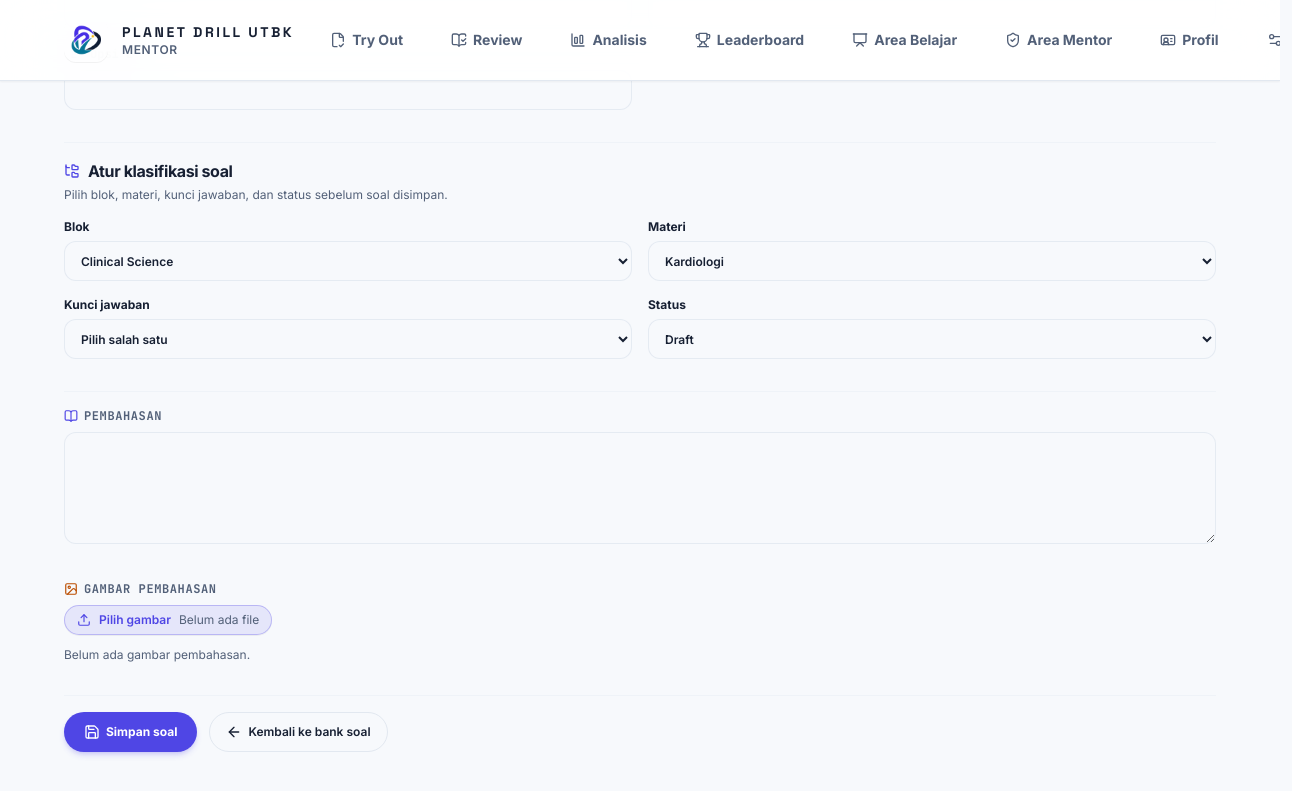
Test: Question editor page › validates the required manual fields before saving
(page scrolled)
Expected: the dropdown labelled "Blok" is shown, [64, 241, 632, 281]
Click the button "Simpan soal": (131, 732) [64, 712, 197, 752]
(page scrolled)
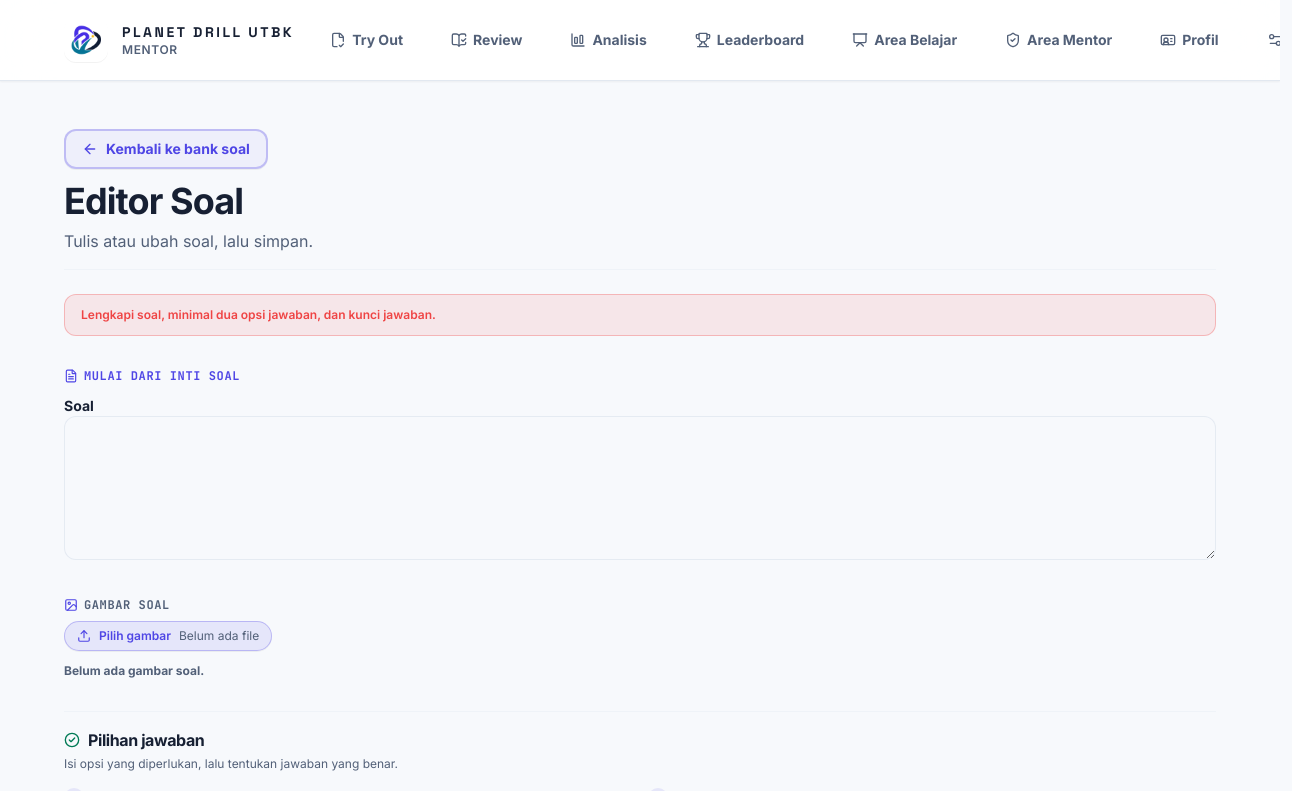
Now the text "Lengkapi soal, minimal dua opsi jawaban, dan kunci jawaban." is shown, box [64, 294, 1216, 336]
